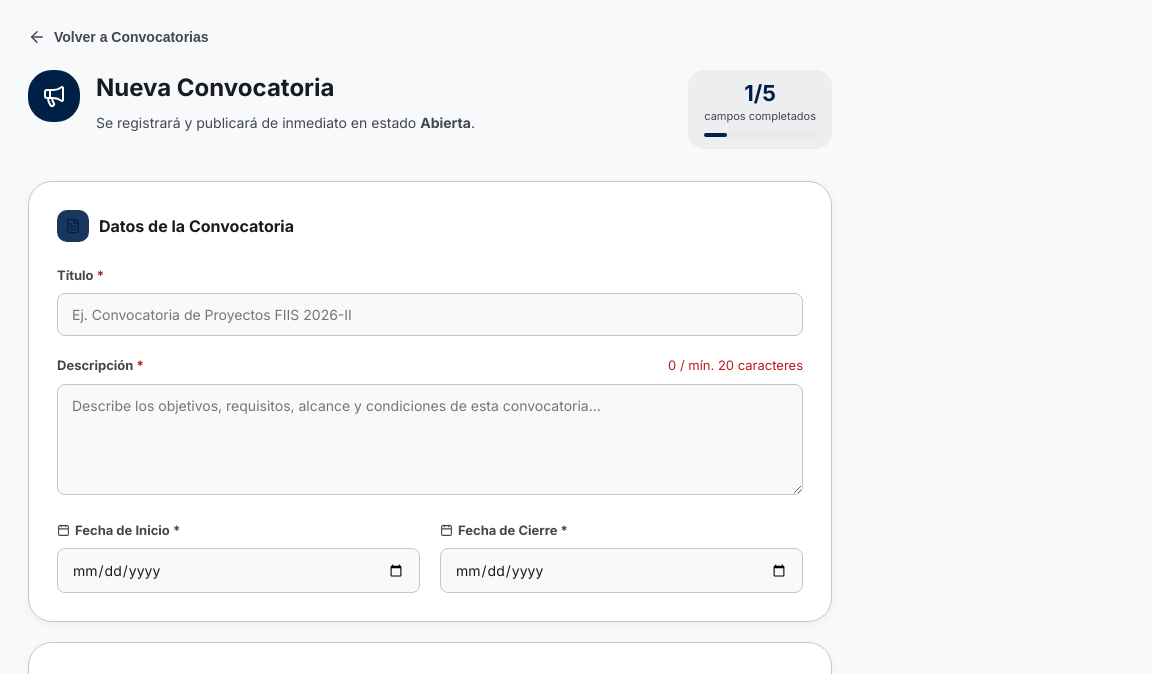
Scenario: NewConvocatoria › validates description minimum length on blur
The image size is (1152, 674).
Replace the text in the text box labelled "Descripción * 0 / mín. 20 caracteres" with "Corto" at (430, 439), box [57, 384, 803, 494]
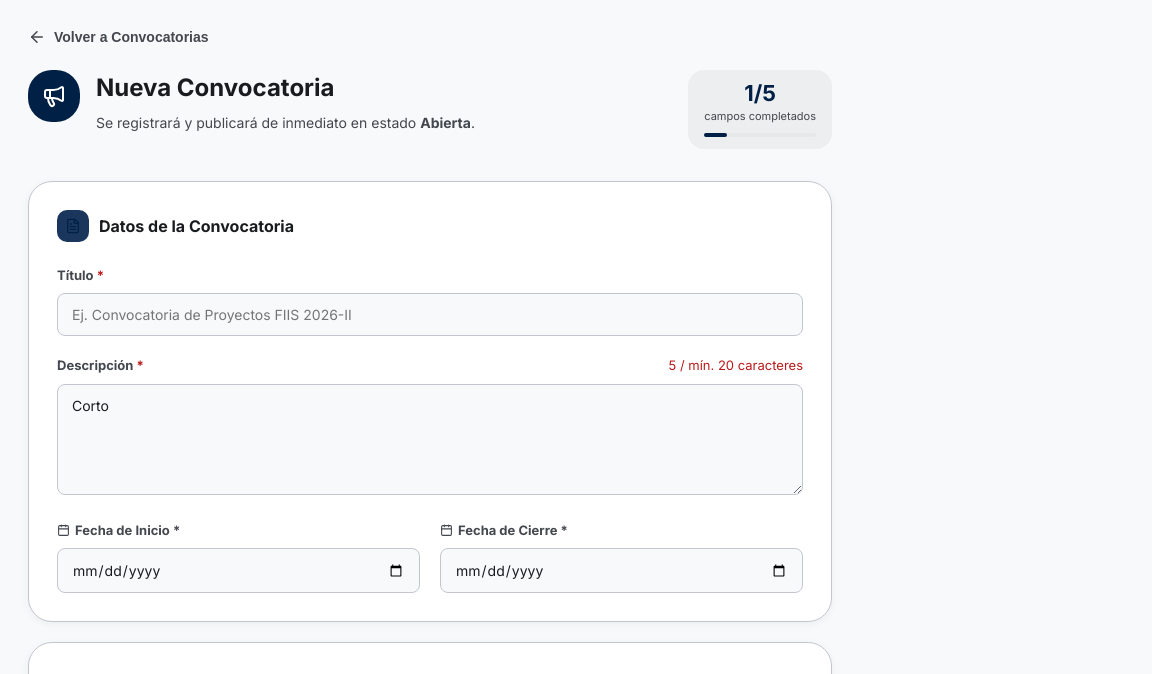
Leave the text box labelled "Descripción * 5 / mín. 20 caracteres", box [57, 384, 803, 494]
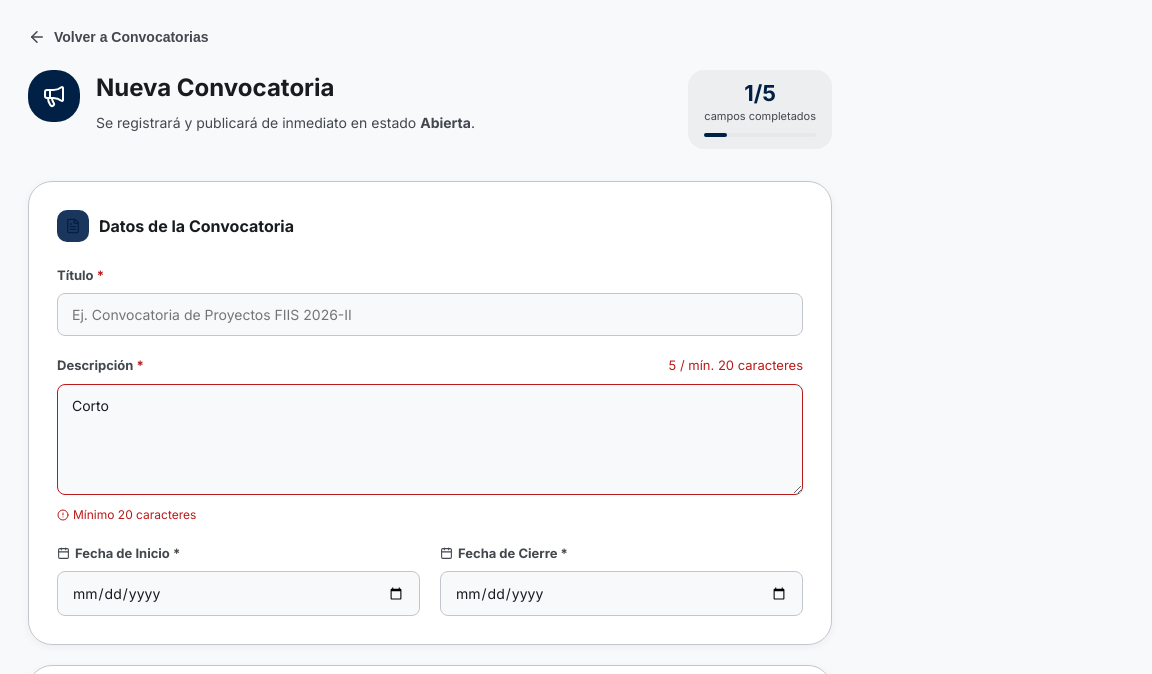
Now the text "Mínimo 20 caracteres" is shown, box [57, 506, 196, 522]
